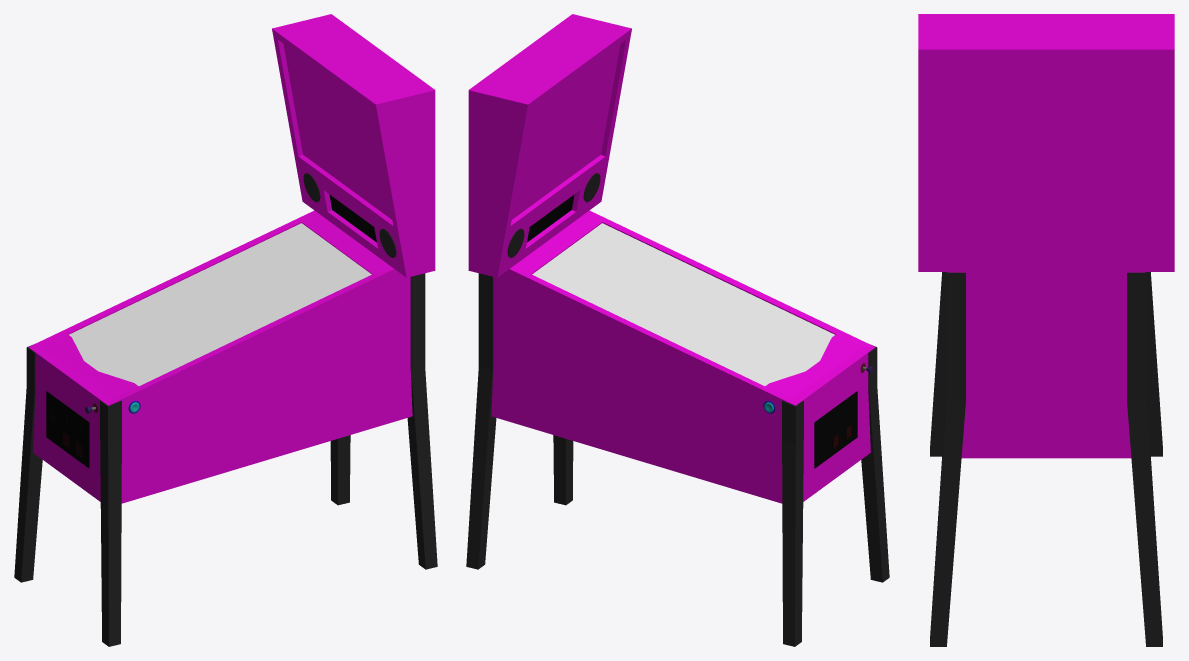
Rendered from PinballGreen.fbx.
The picture shows the model from 3 angles, left to right: view 1: azimuth 30°, elevation 25°; view 2: azimuth 150°, elevation 25°; view 3: azimuth 270°, elevation 25°; orthographic projection. The views are drawn at different scales.
Visible parts, largest first — view 1: Body, Legs, Coins.001, Speakers; view 2: Body, Legs, Coins.001, Speakers; view 3: Body, Legs.
Boxes of the visible parts, left/top/right/bottom form: Body: left=28, top=14, right=435, bottom=503; Legs: left=14, top=273, right=437, bottom=646; Coins.001: left=46, top=391, right=89, bottom=468; Speakers: left=303, top=173, right=396, bottom=257; Body: left=468, top=14, right=875, bottom=503; Legs: left=466, top=273, right=889, bottom=646; Coins.001: left=814, top=391, right=857, bottom=468; Speakers: left=507, top=173, right=600, bottom=257; Body: left=918, top=14, right=1174, bottom=458; Legs: left=930, top=272, right=1162, bottom=646.
Size of the model in its own units: 191 by 266 by 104.
